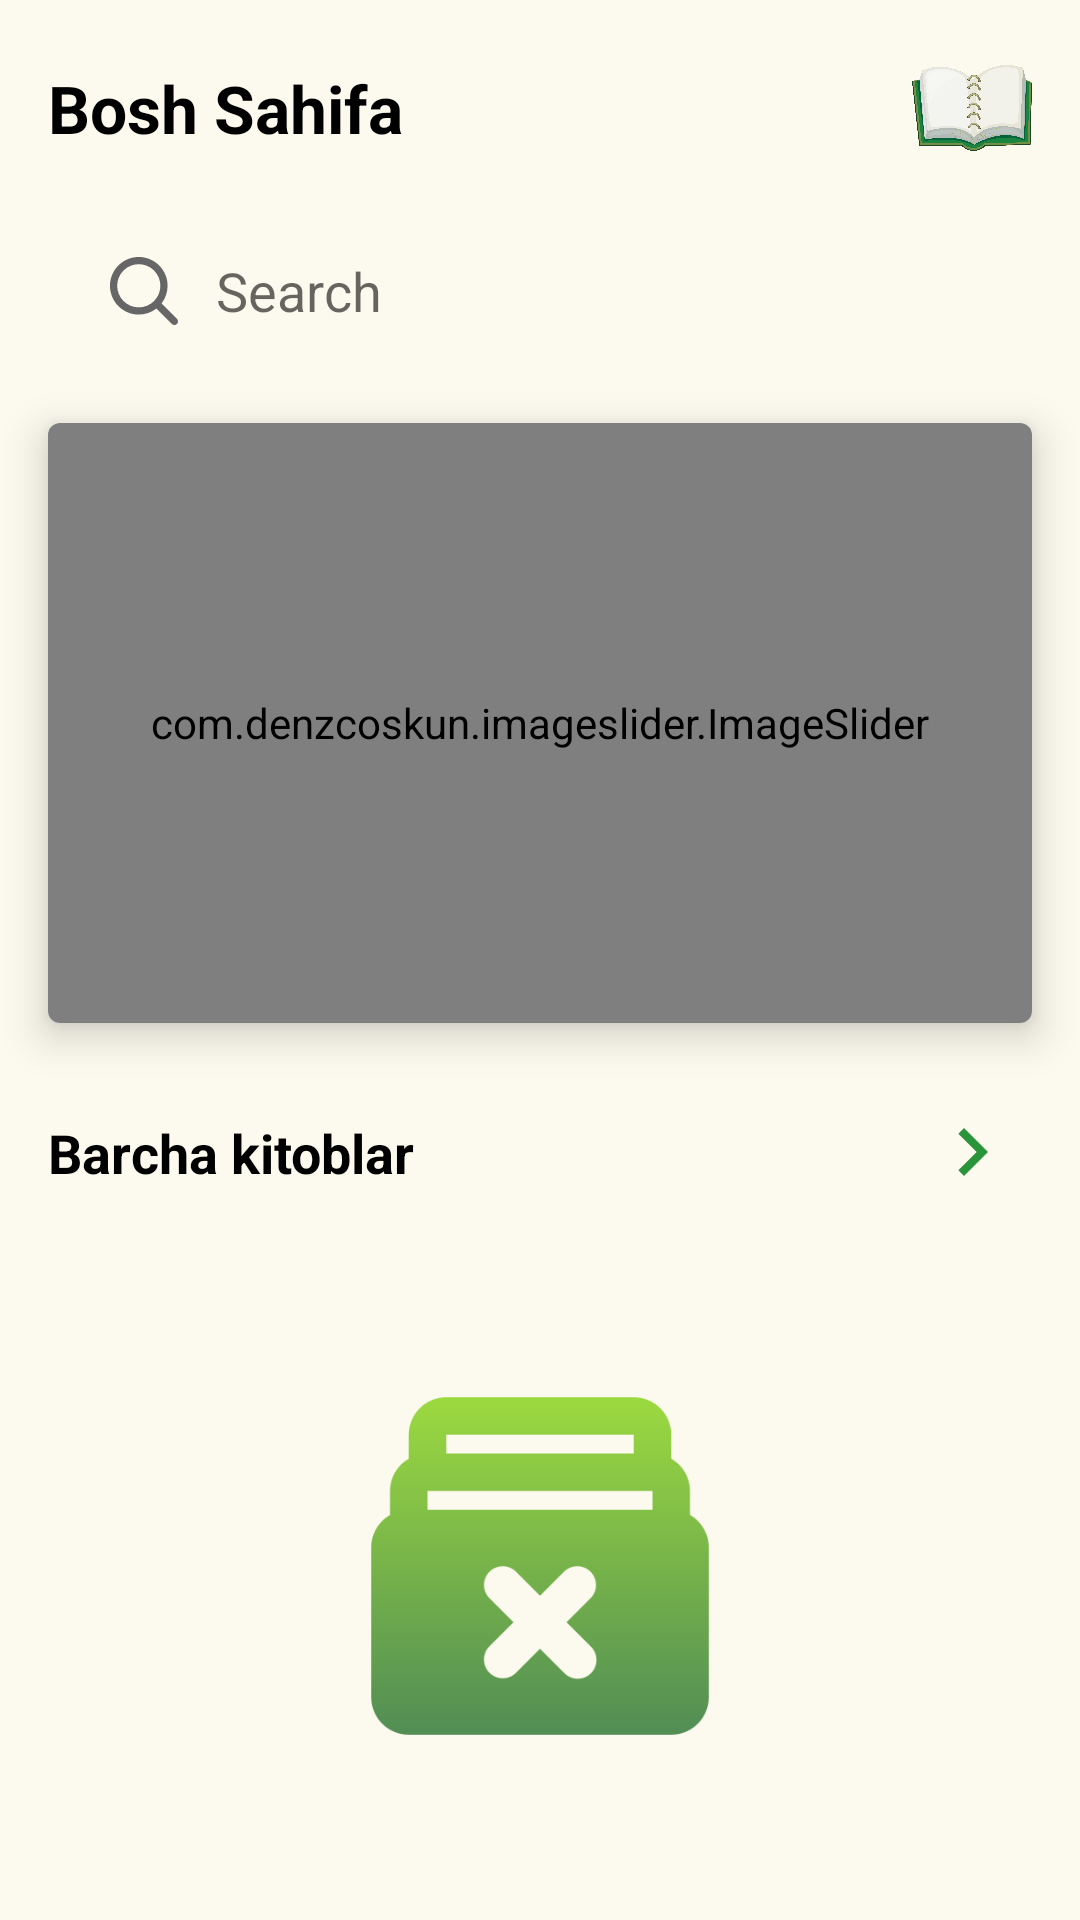

Point at icon controls on the screen. Image size 1080 × 1920, points as (x=x, y=y).
book: (x=972, y=108)
right: (x=973, y=1152)
